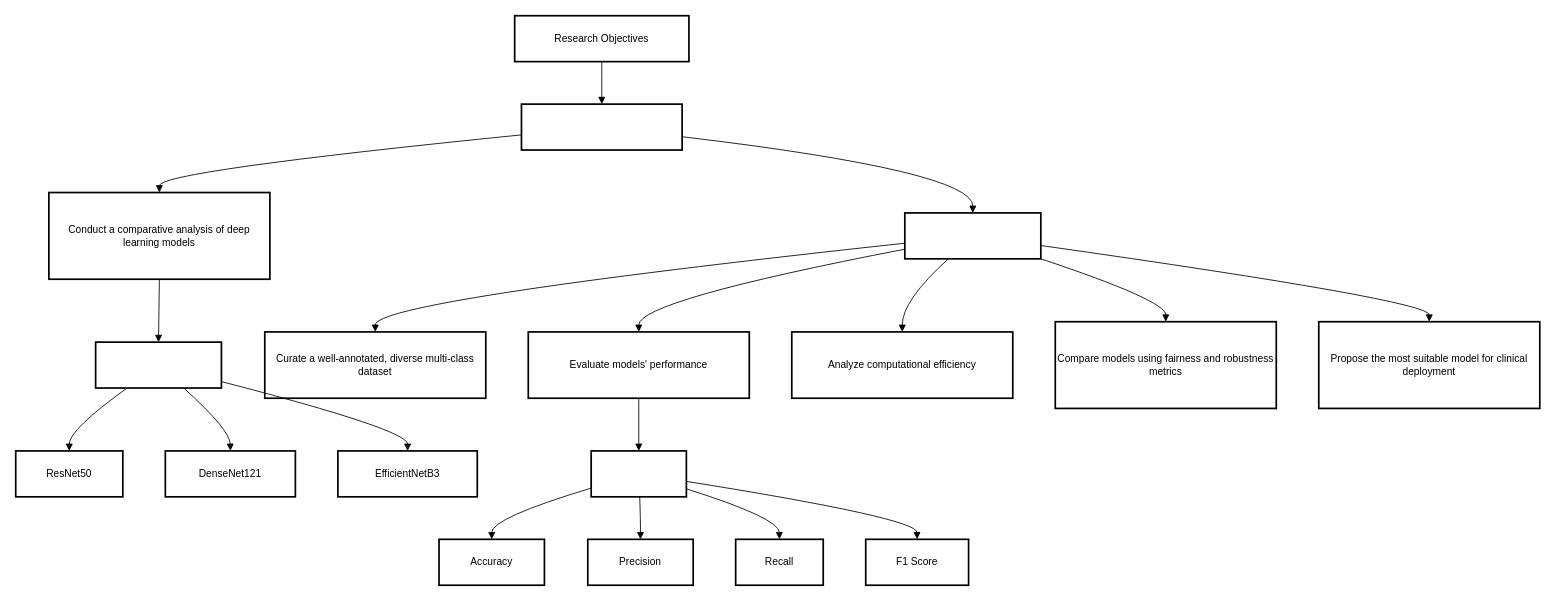
The diagram is 1555 pixels wide and 600 high, and some of its shapes have lost their labels. Here are the shapes that lost their labels. From the top down, the centre of each, then its label:
[601,126]: Primary Objective
[972,235]: Specific Goals
[158,364]: Models Used
[638,473]: Metrics
